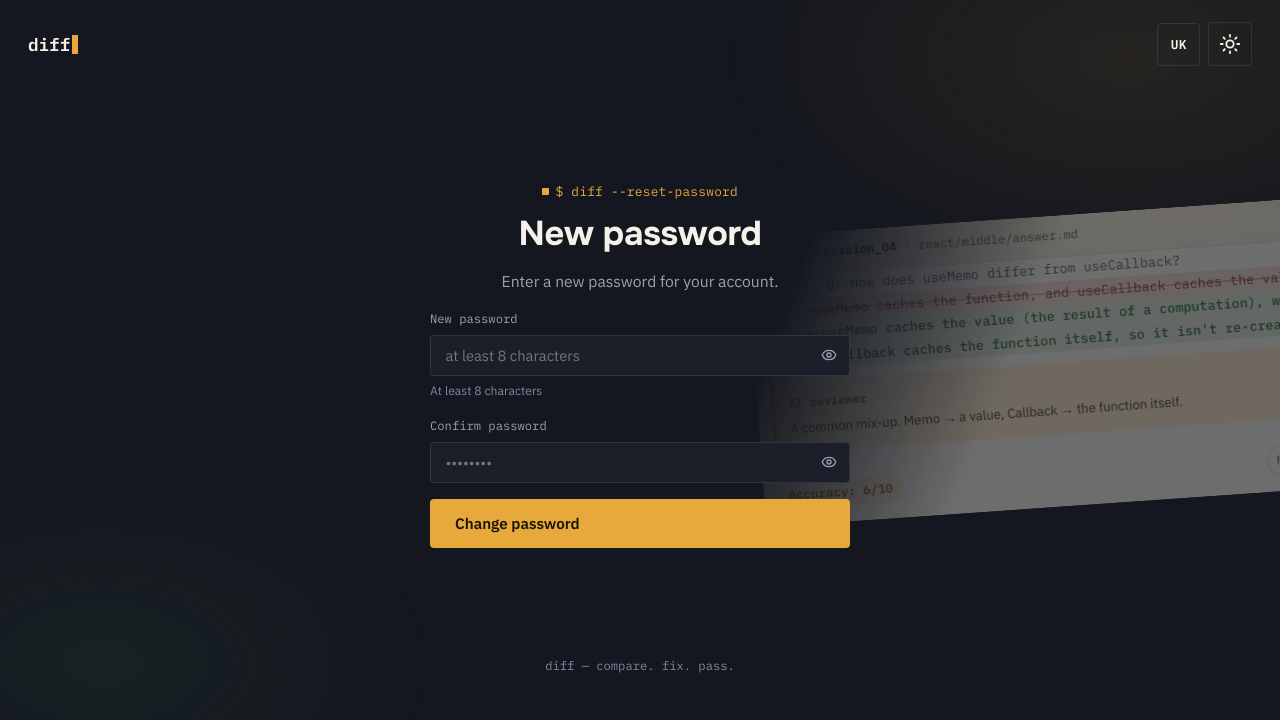
Test case: ResetPasswordPage i18n › keeps the form and shows a generic error on any other failure, such as a rejected password
The width and height of the screenshot is (1280, 720).
Step 1. Type "password1" into the password field labelled "New password" → (640, 355), box x1=430 y1=335 x2=850 y2=376
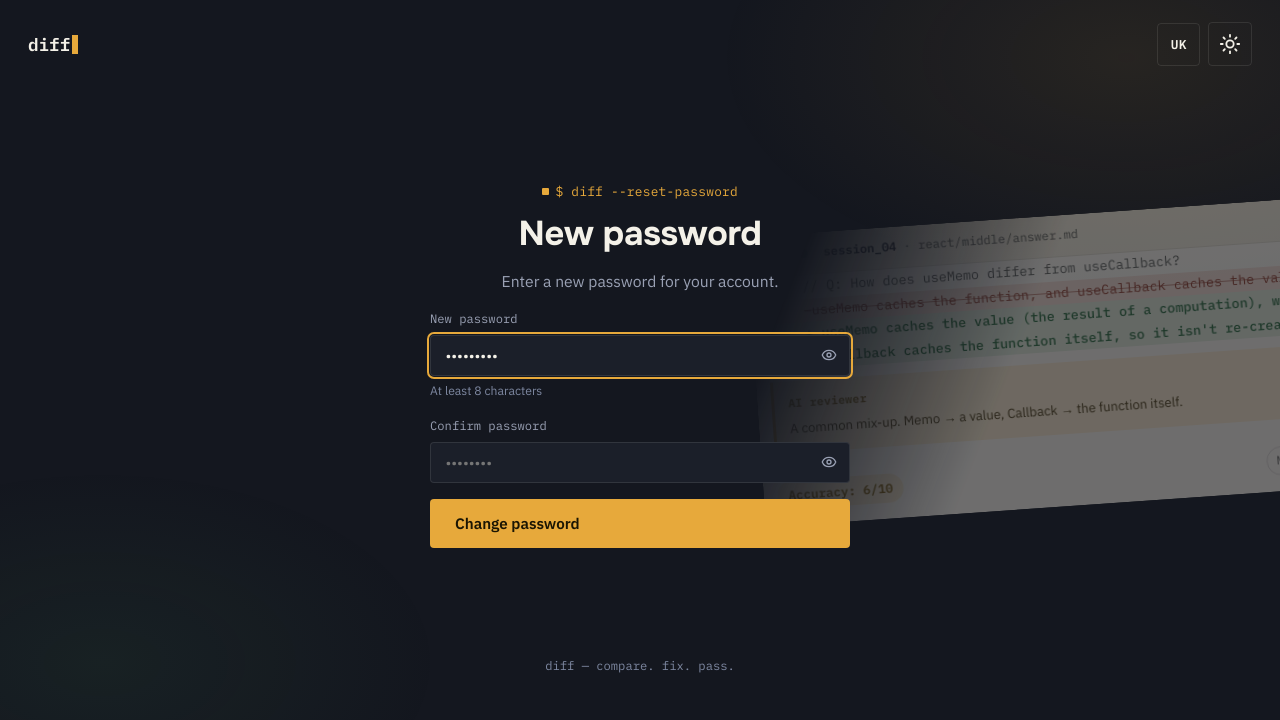
Step 2. Type "password1" into the password field labelled "Confirm password" → (640, 462), box x1=430 y1=442 x2=850 y2=483
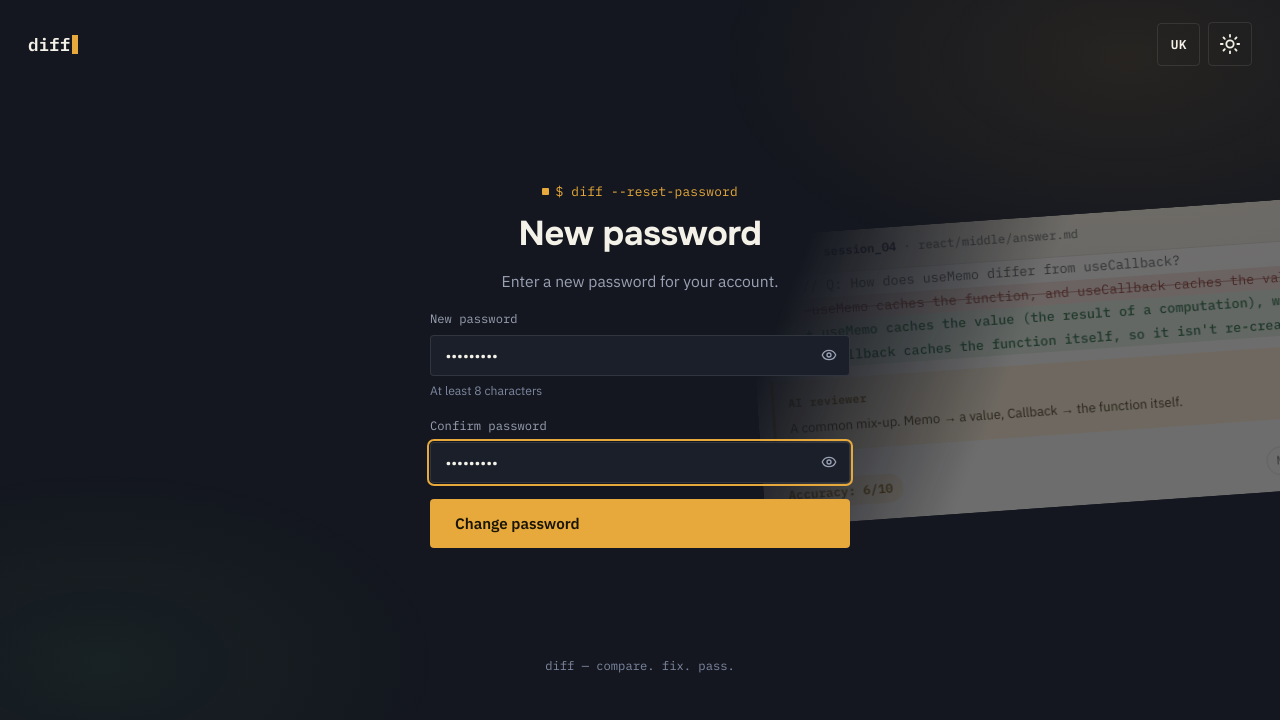
Step 3. Click the button "Change password" → (517, 523), box x1=430 y1=499 x2=850 y2=548
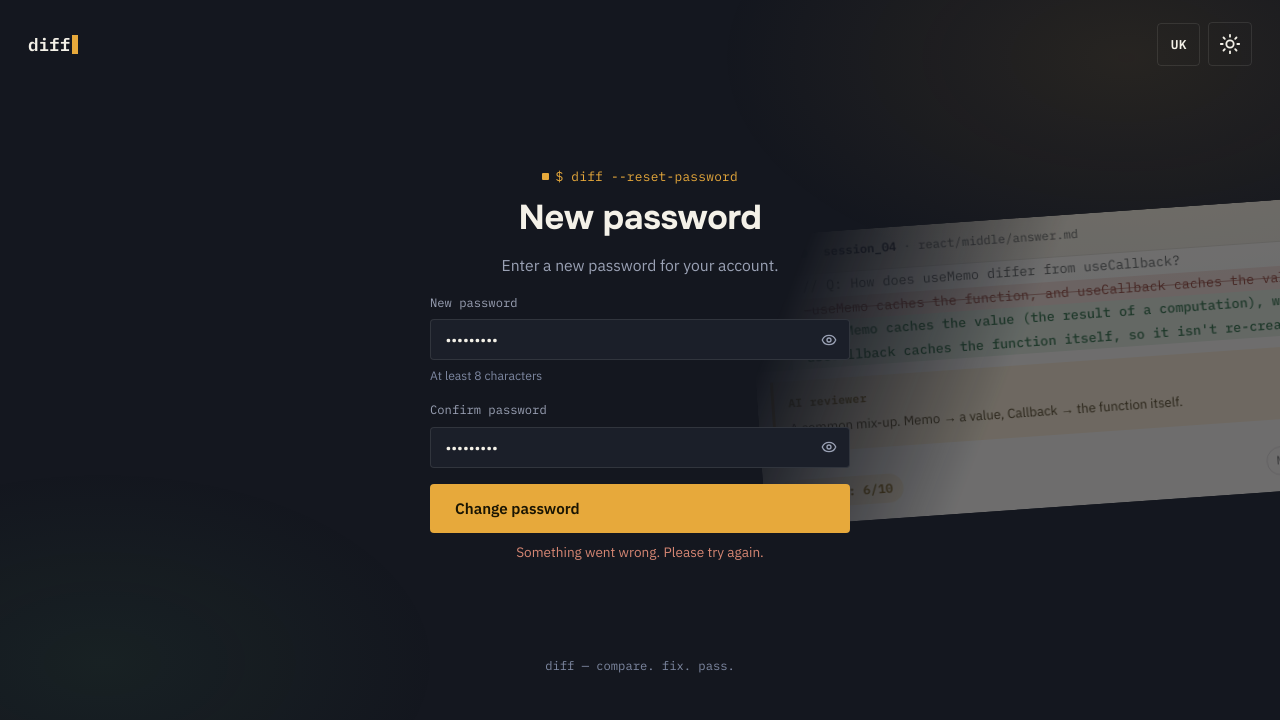
Check: the heading "New password" is shown, box x1=519 y1=196 x2=762 y2=240
Check: the text "Something went wrong. Please try again." is shown, box x1=516 y1=543 x2=764 y2=561
